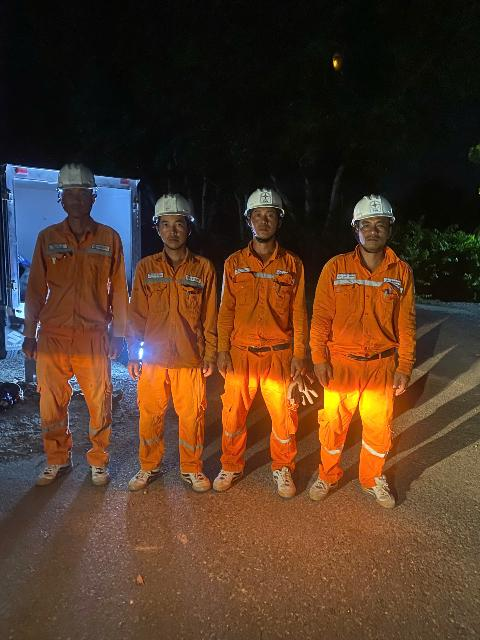helmet: (144, 183, 210, 235), (242, 177, 290, 223), (352, 193, 404, 229), (55, 162, 101, 200)
shoes: (352, 468, 415, 513), (34, 448, 77, 489), (302, 462, 342, 499), (128, 460, 166, 495), (270, 461, 305, 498), (173, 464, 212, 495), (85, 458, 113, 489), (208, 463, 244, 481)
